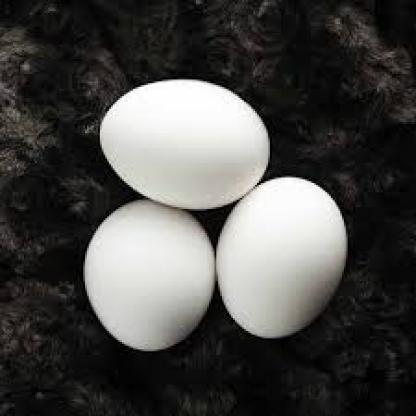egg: (99, 76, 271, 209), (216, 176, 350, 340), (83, 198, 216, 350)
